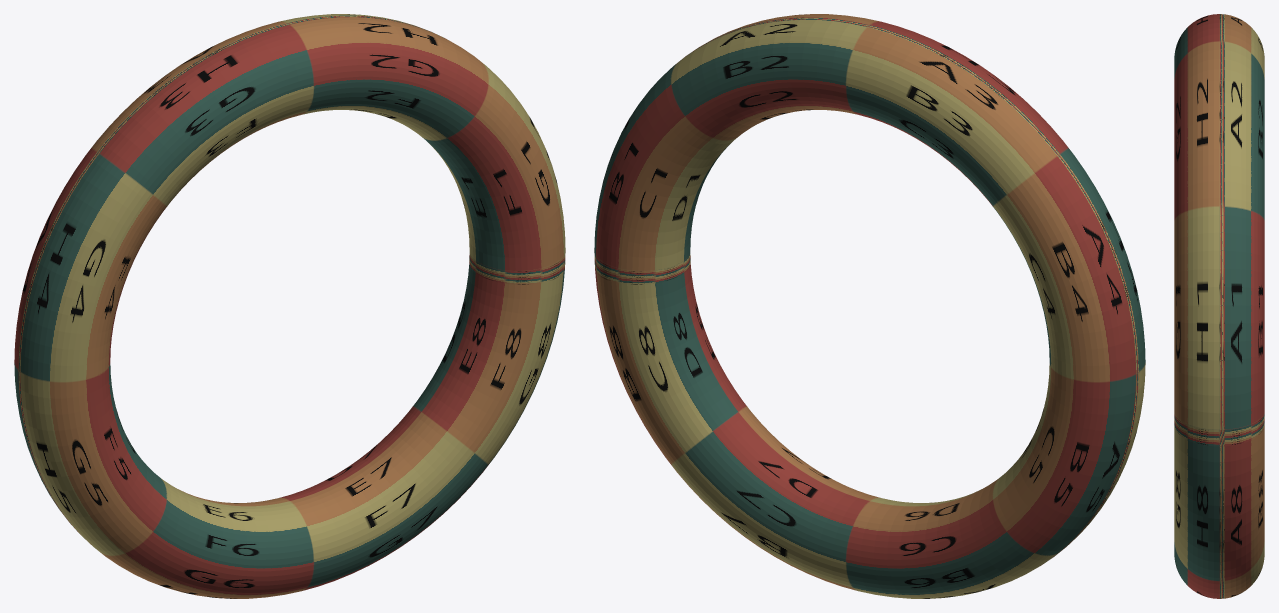
Rendered from texture_torus_R7_r3.glb.
3 renders of one model, left to right at view 1: azimuth 30°, elevation 25°; view 2: azimuth 150°, elevation 25°; view 3: azimuth 270°, elevation 25°, orthographic. The views are drawn at different scales.
Parts seen in each view (by area): view 1: world; view 2: world; view 3: world.
Boxes of the visible parts, bbox=[...] form: world: bbox=[14, 14, 565, 598]; world: bbox=[594, 14, 1145, 598]; world: bbox=[1174, 14, 1264, 598].
Bounding box in the file's own units: 30.22 × 30.22 × 4.66.
1 material, 1 textured.
